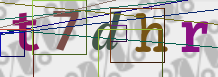7: (51, 9, 79, 50)
d: (91, 10, 122, 51)
h: (134, 12, 169, 53)
r: (180, 20, 209, 53)
t: (12, 11, 40, 52)
